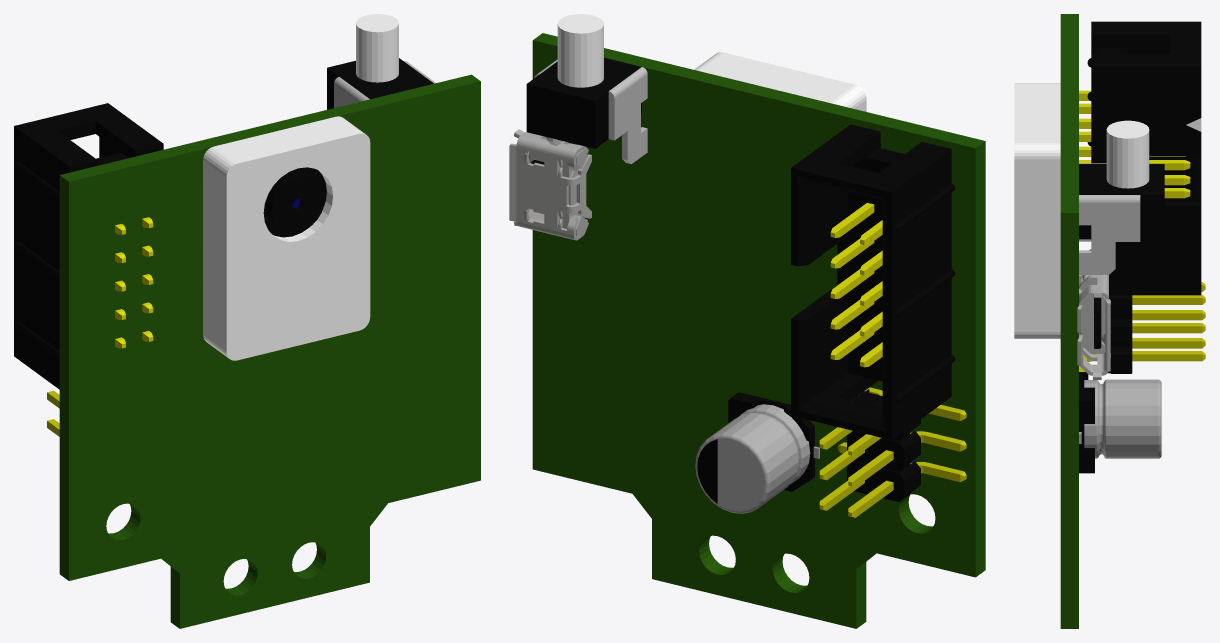
File: Pixy2CMUcam5.obj
3 renders of one model, left to right at view 1: azimuth 30°, elevation 25°; view 2: azimuth 150°, elevation 25°; view 3: azimuth 270°, elevation 25°, orthographic. The views are drawn at different scales.
Bounding box in the file's own units: 39.17 × 46.9 × 15.65.
